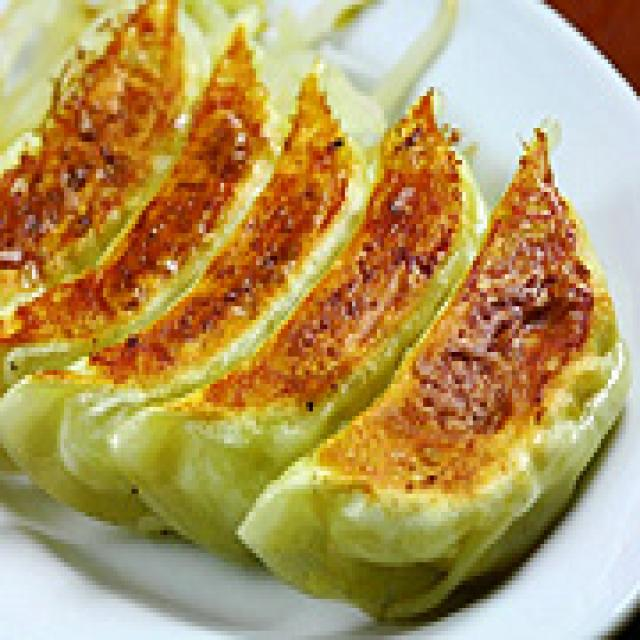带馅早点: (0, 0, 615, 603)
